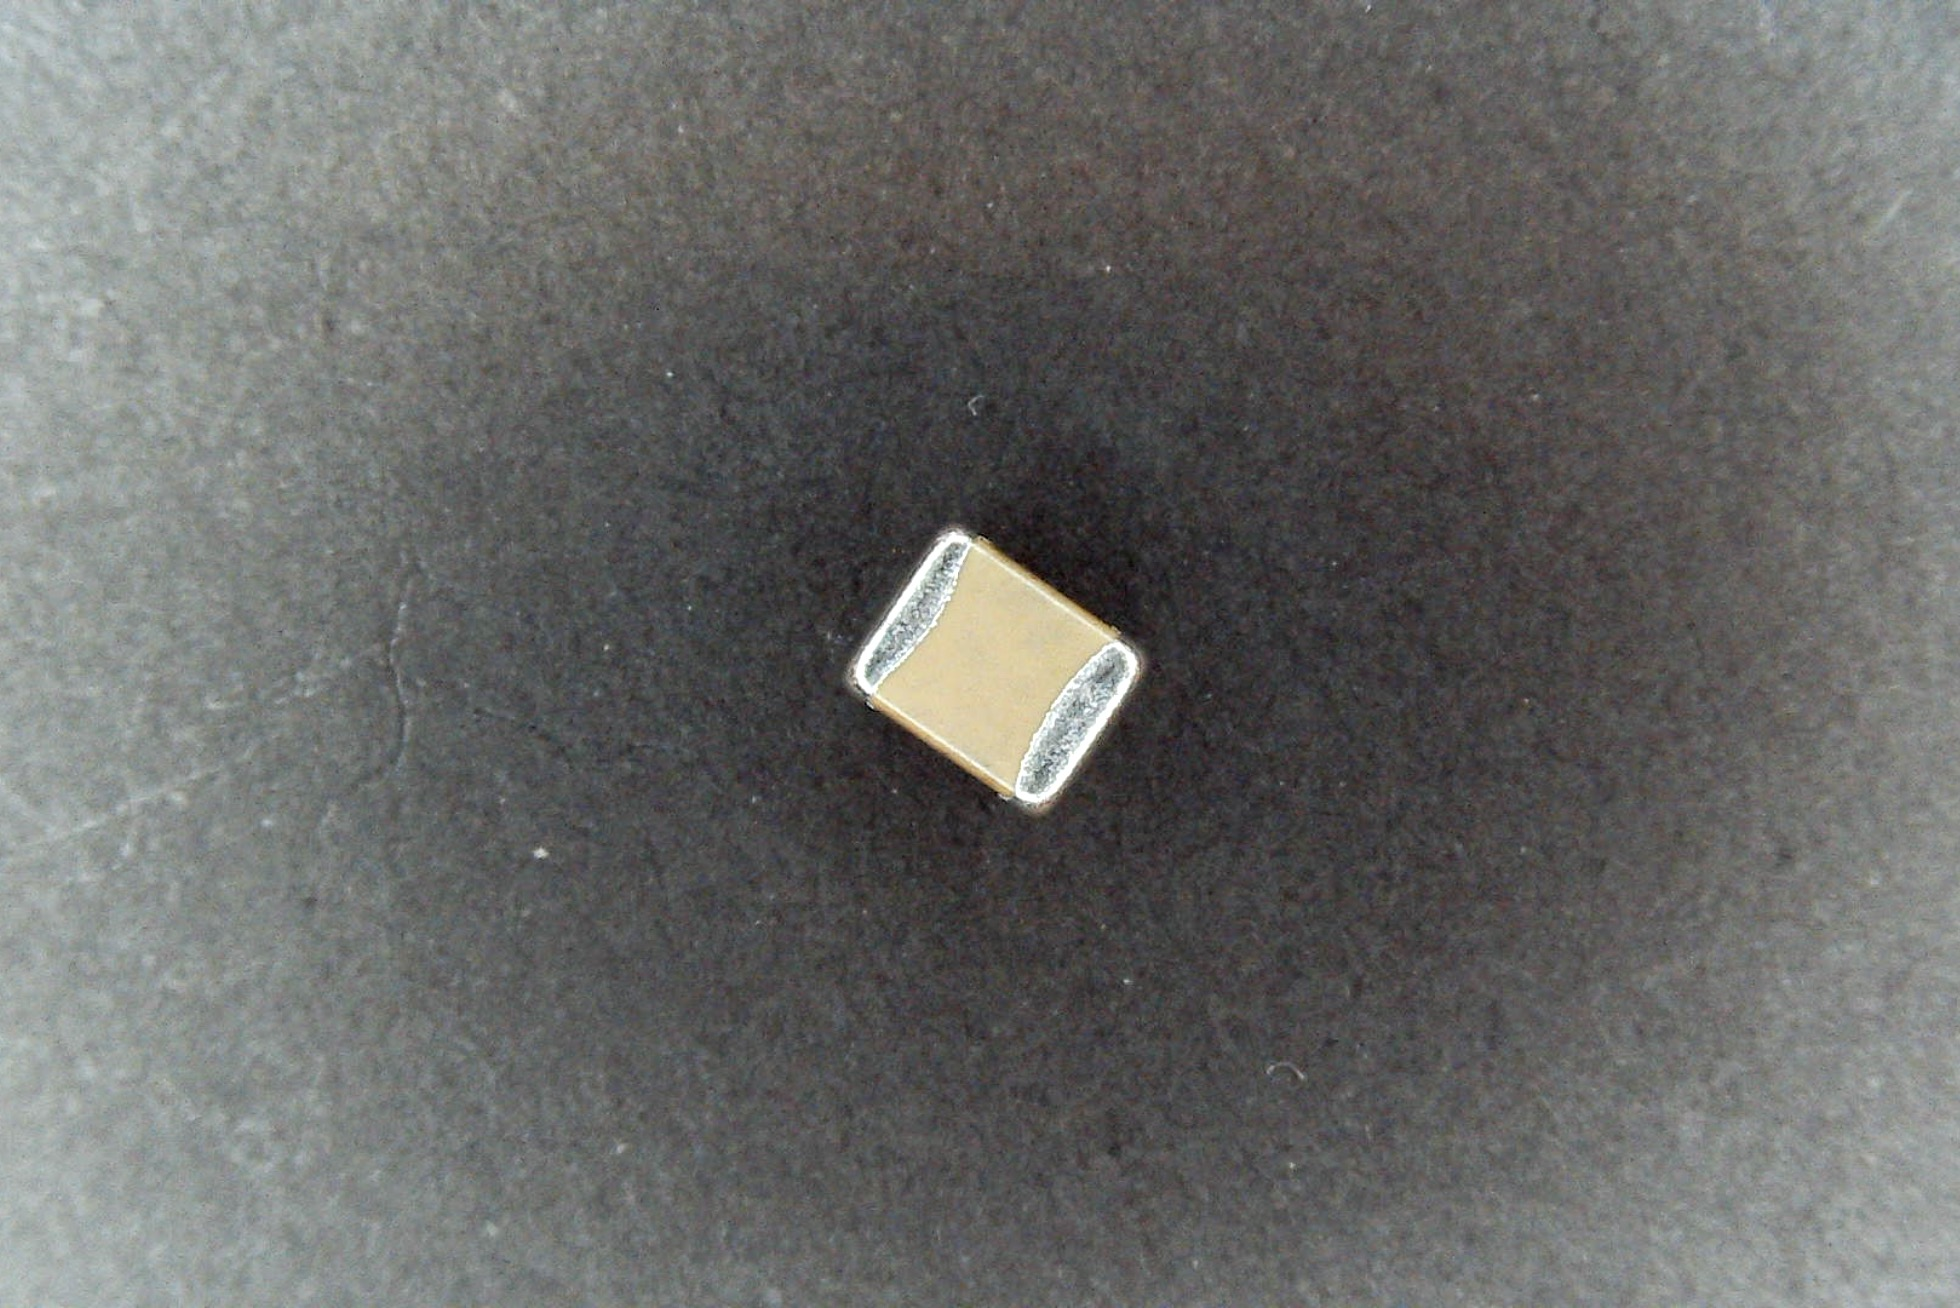bbox: (849, 526, 1146, 817)
